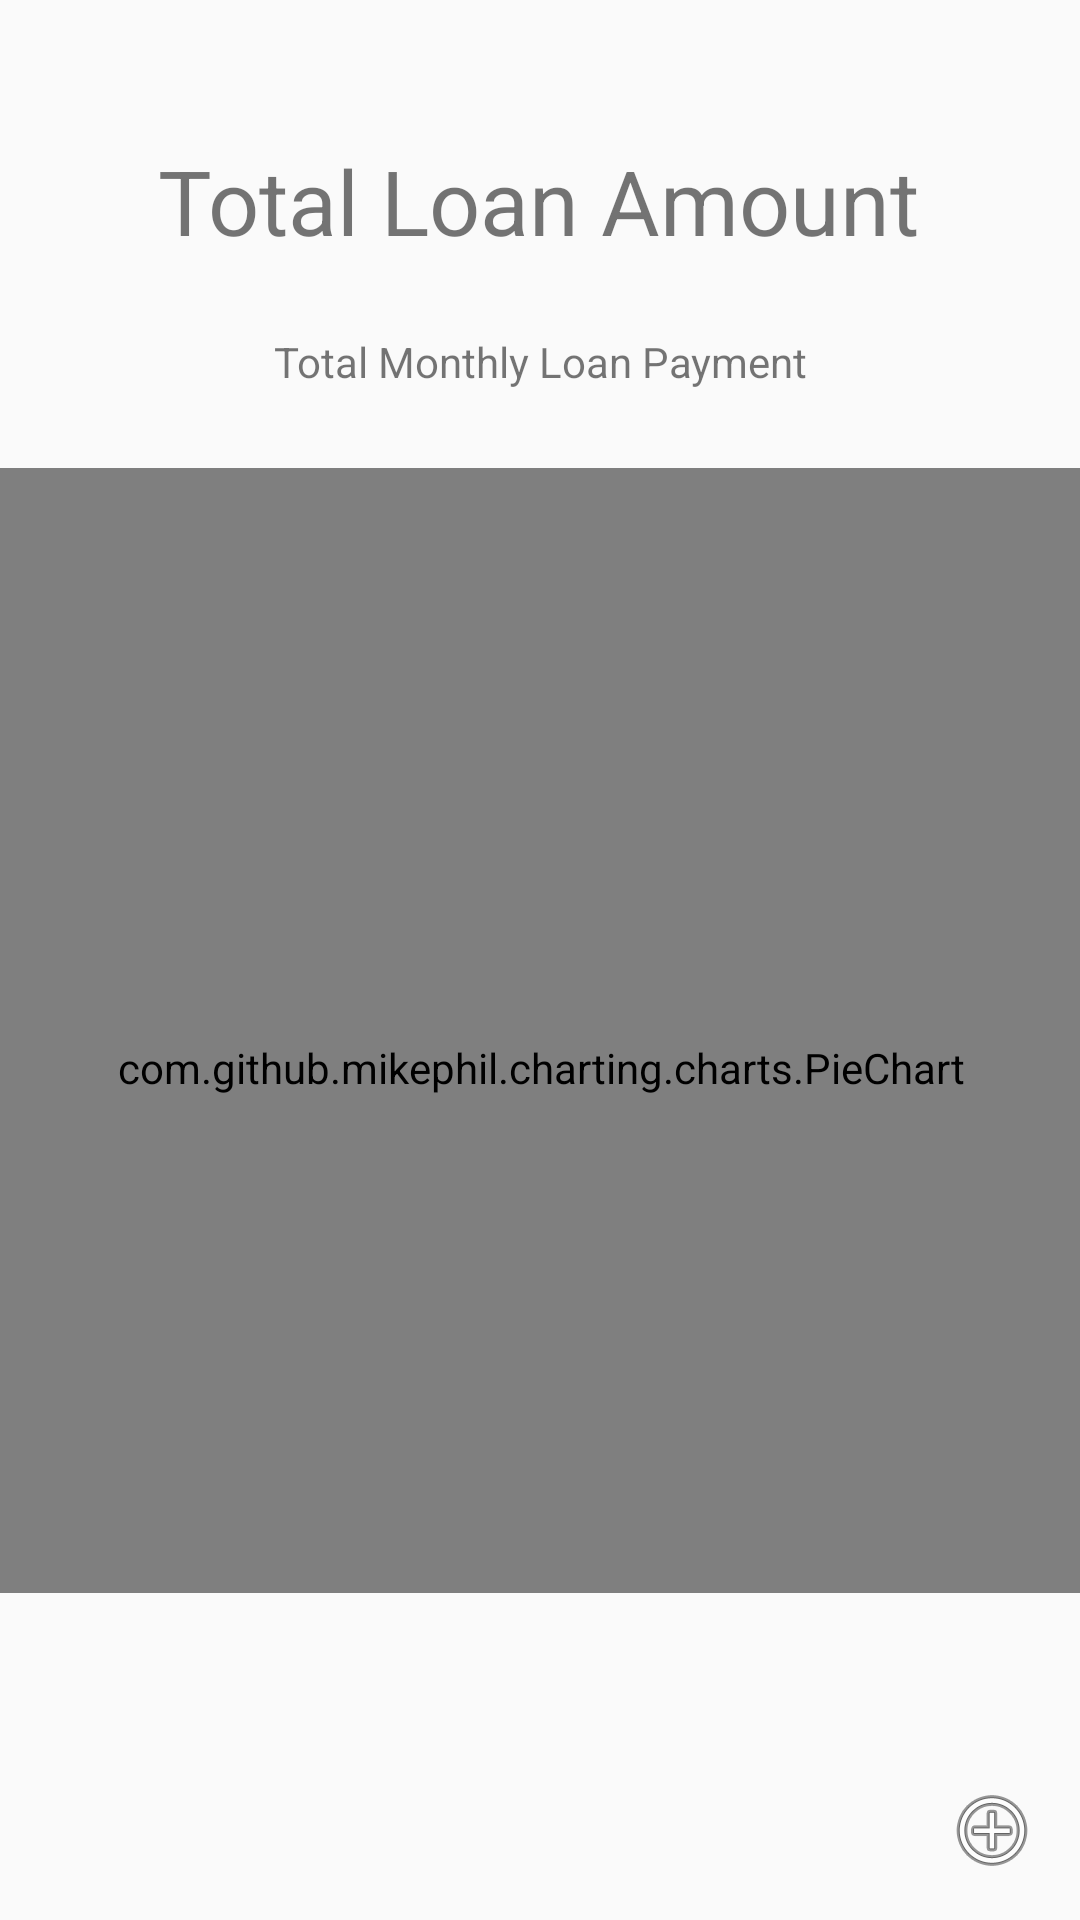

Locate icon controls on the screen. Image size 1080px x 1920px, boxes as (x1, y1, x2, y2).
add loan: (956, 1795, 1028, 1866)
